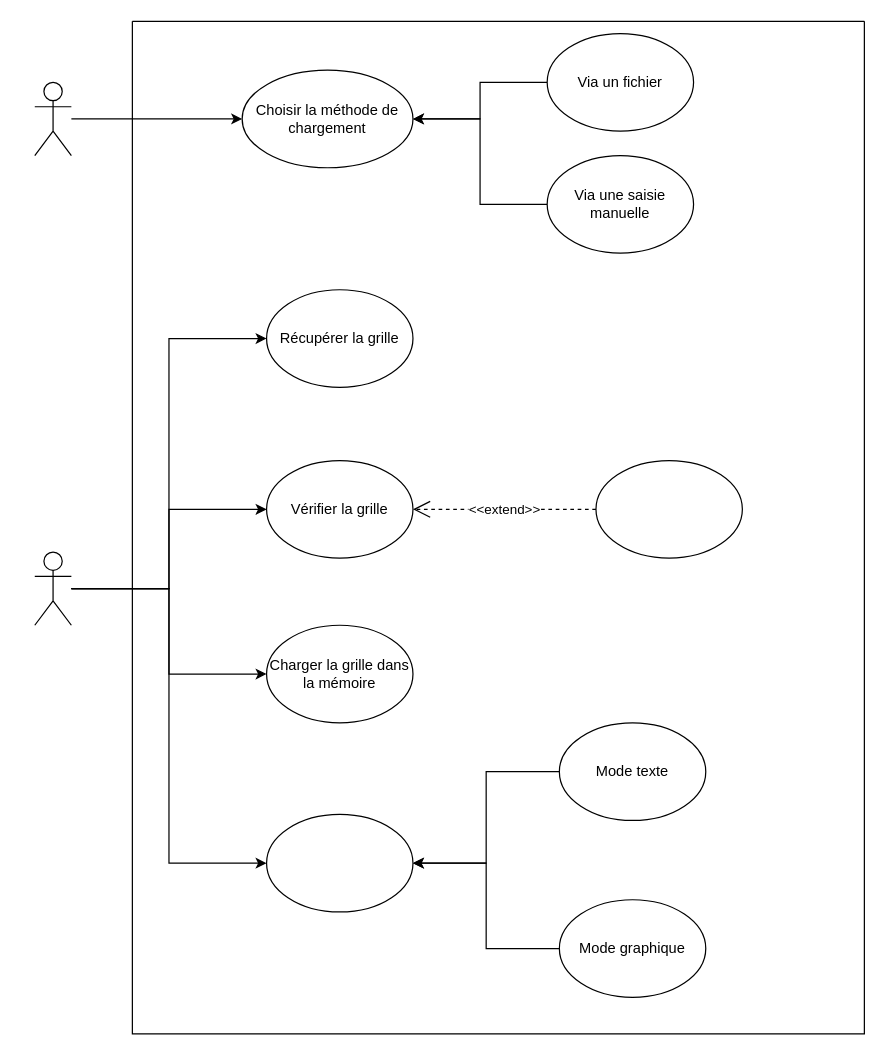
Image size: 886x1055. Some labels were removed from this diagram. The box of each missing label's shape, as (x1, y1, x2, y2) in pixels:
Afficher la grille: (265, 813, 413, 912)
Message d'erreur si grille non valide: (595, 459, 742, 558)
Systeme: (34, 551, 71, 625)
Utilisateur: (34, 81, 71, 156)
